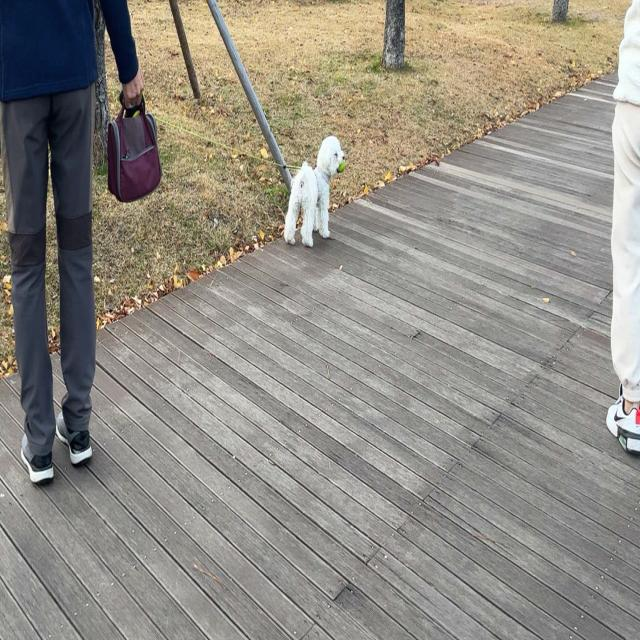Leashed_Dog: (52, 65, 346, 248)
